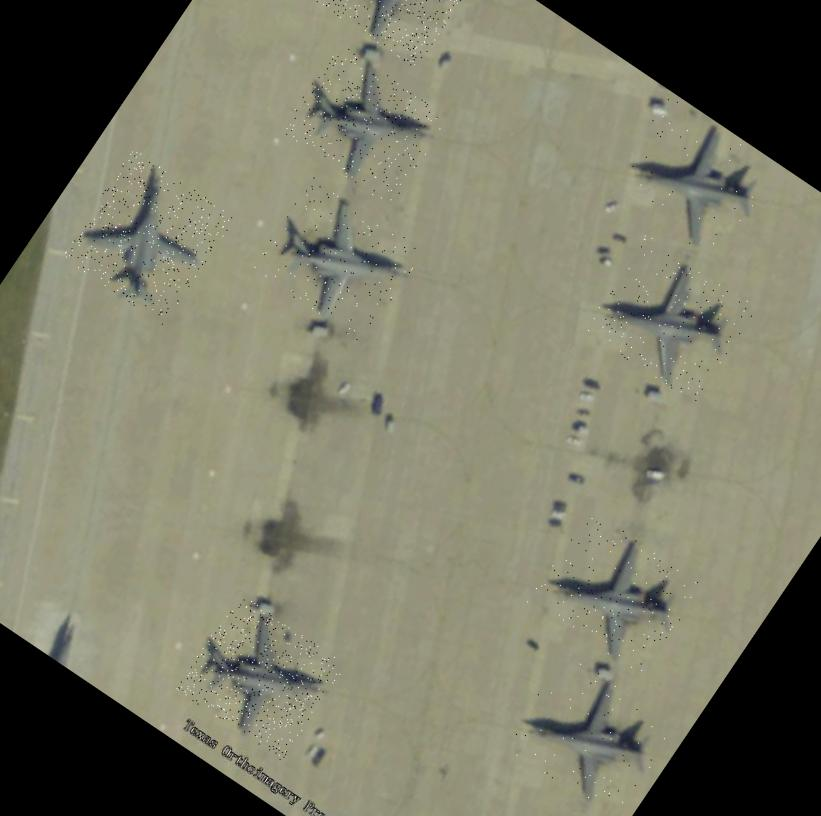A10: (578, 232, 758, 406), (60, 148, 234, 325), (606, 94, 782, 264), (526, 508, 702, 678), (500, 649, 677, 816), (250, 176, 424, 343), (173, 593, 346, 760), (278, 43, 449, 206), (300, 0, 478, 68)
